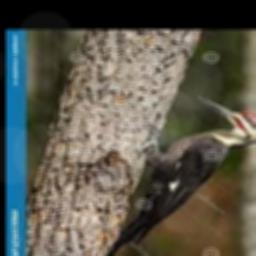Woodpecker: (104, 96, 256, 256)
